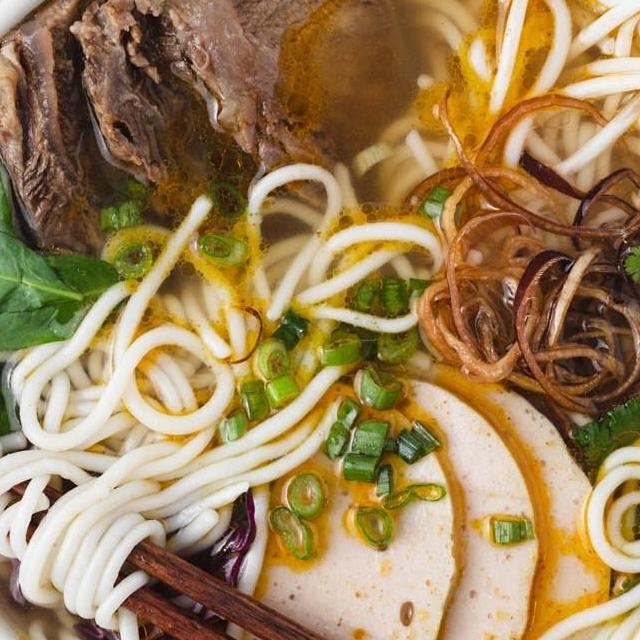bun: (0, 159, 451, 636), (345, 0, 634, 280), (20, 426, 281, 640), (455, 355, 640, 640)
bun bo: (0, 0, 640, 640)
rau ram: (0, 57, 143, 452)
thit bo: (159, 0, 423, 218), (67, 0, 238, 229), (0, 0, 124, 298)
